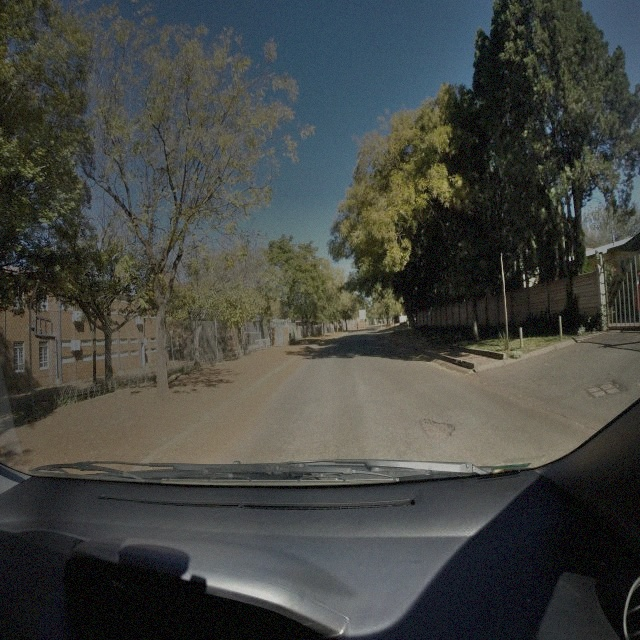pothole: (418, 415, 456, 440)
